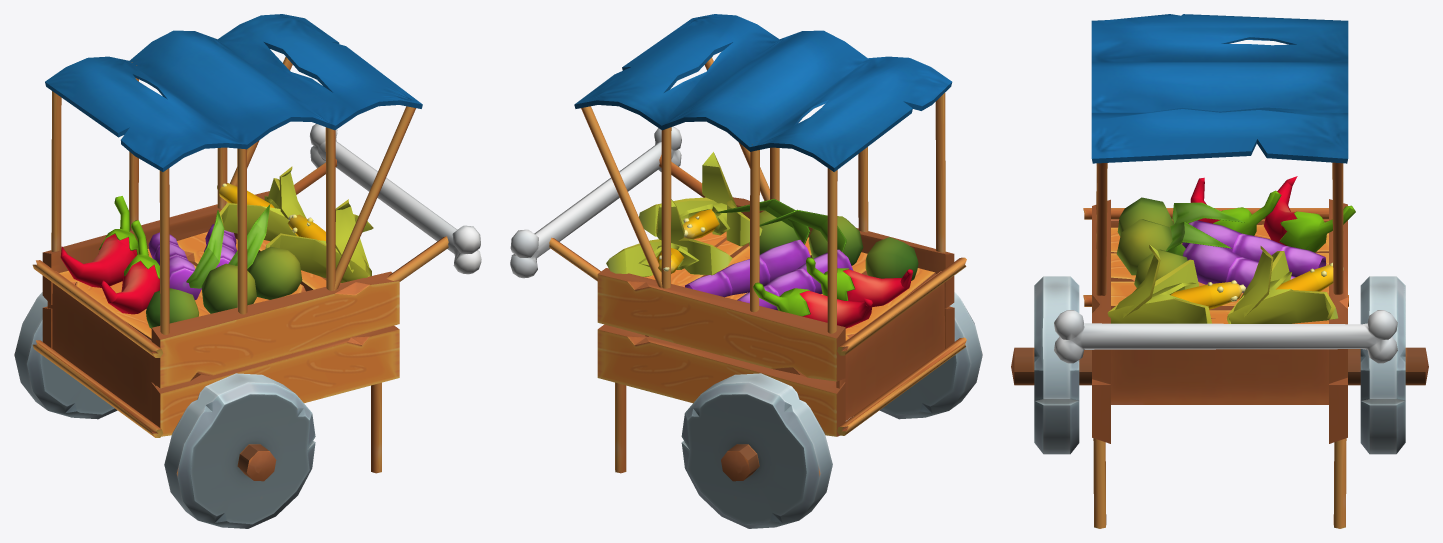
Rendered from Shop_2.fbx.
3 views of the same model, side by side, from view 1: azimuth 30°, elevation 25°; view 2: azimuth 150°, elevation 25°; view 3: azimuth 270°, elevation 25° (orthographic). The views are drawn at different scales.
Visible parts, largest first — view 1: Newshop_2_mod, Corn_Coconut_mod, SugarCane_Chillies_mod; view 2: Newshop_2_mod, Corn_Coconut_mod, SugarCane_Chillies_mod; view 3: Newshop_2_mod, Corn_Coconut_mod, SugarCane_Chillies_mod.
Part boxes in pixels (left/top/right/bottom): Newshop_2_mod: left=14, top=14, right=481, bottom=528; Corn_Coconut_mod: left=146, top=166, right=373, bottom=328; SugarCane_Chillies_mod: left=60, top=196, right=270, bottom=314; Newshop_2_mod: left=510, top=14, right=982, bottom=528; Corn_Coconut_mod: left=606, top=152, right=918, bottom=280; SugarCane_Chillies_mod: left=685, top=198, right=912, bottom=328; Newshop_2_mod: left=1011, top=14, right=1428, bottom=528; Corn_Coconut_mod: left=1107, top=197, right=1343, bottom=323; SugarCane_Chillies_mod: left=1166, top=176, right=1355, bottom=293.
Bounding box in the file's own units: 5.17 × 5.87 × 5.38.
